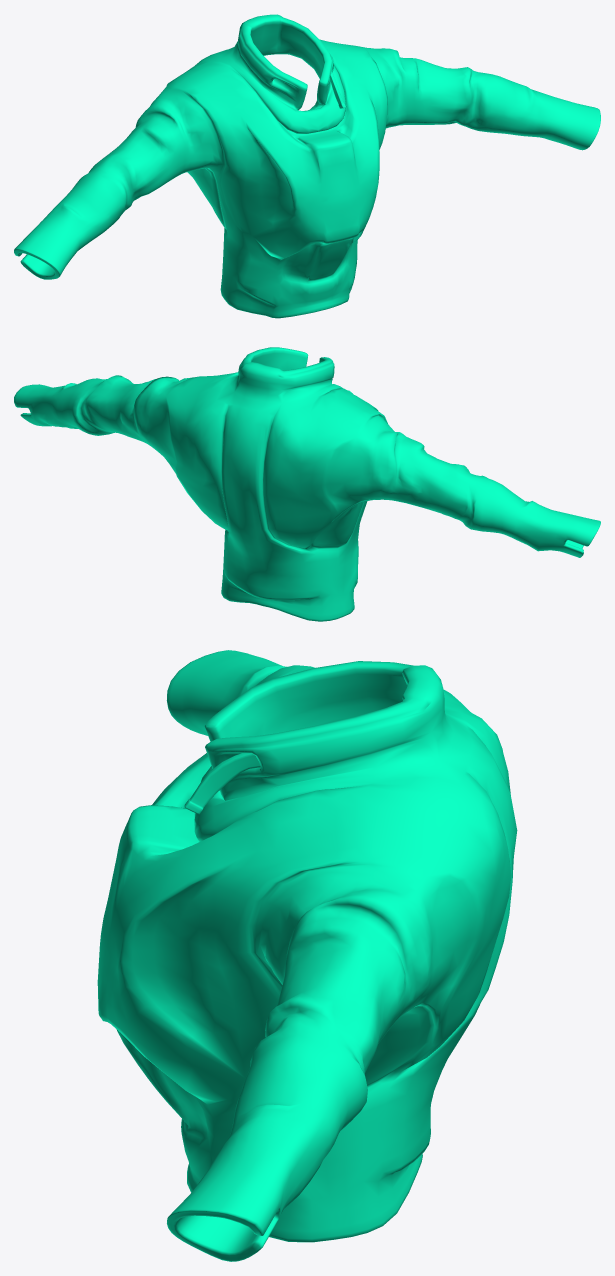
Rendered from armored_jacket-green.glb.
3 renders of one model, top to bottom at view 1: azimuth 30°, elevation 25°; view 2: azimuth 150°, elevation 25°; view 3: azimuth 270°, elevation 25°, orthographic. The views are drawn at different scales.
Parts seen in each view (by area): view 1: armored_jacket_obj_cleaner_materialmerger_gles; view 2: armored_jacket_obj_cleaner_materialmerger_gles; view 3: armored_jacket_obj_cleaner_materialmerger_gles.
Boxes of the visible parts, <box> form: armored_jacket_obj_cleaner_materialmerger_gles: <box>14,14,600,318</box>; armored_jacket_obj_cleaner_materialmerger_gles: <box>14,347,600,621</box>; armored_jacket_obj_cleaner_materialmerger_gles: <box>97,650,517,1261</box>.
Size of the model in its own units: 188 by 79.47 by 59.11.
